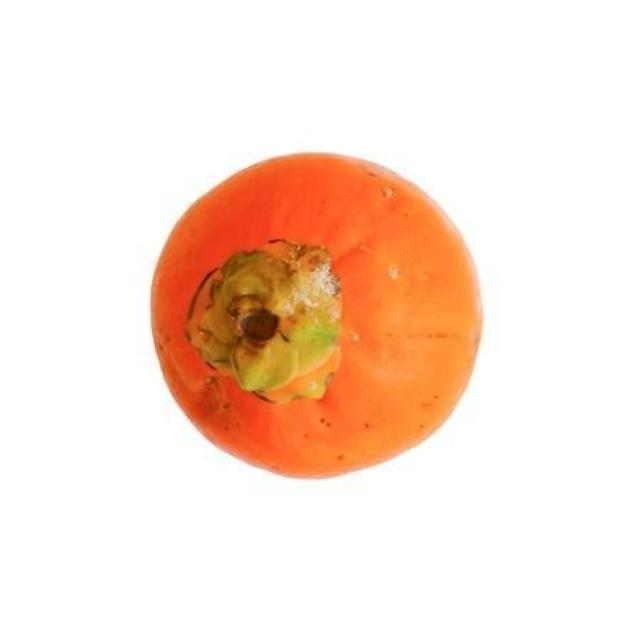good: (149, 154, 486, 481)
